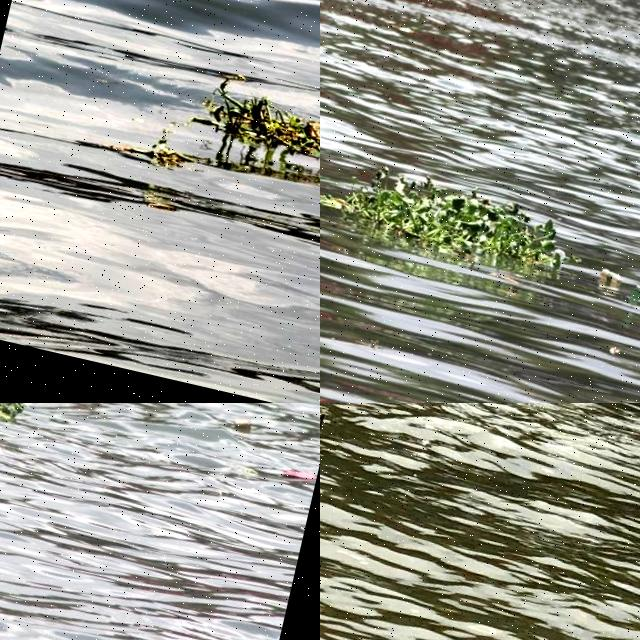water-hyacinth: (321, 166, 567, 279), (191, 82, 321, 168), (1, 404, 21, 422)
